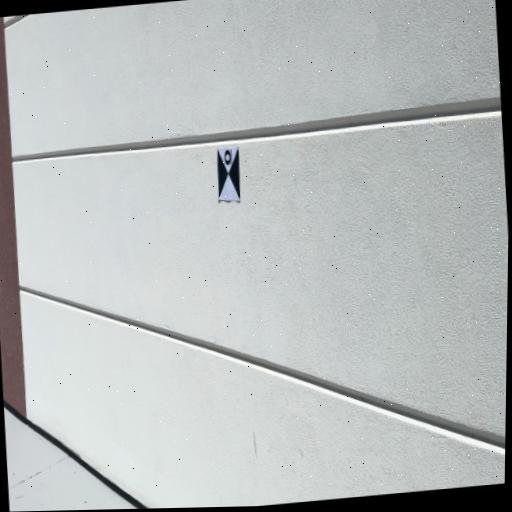target0: (218, 147, 241, 201)
